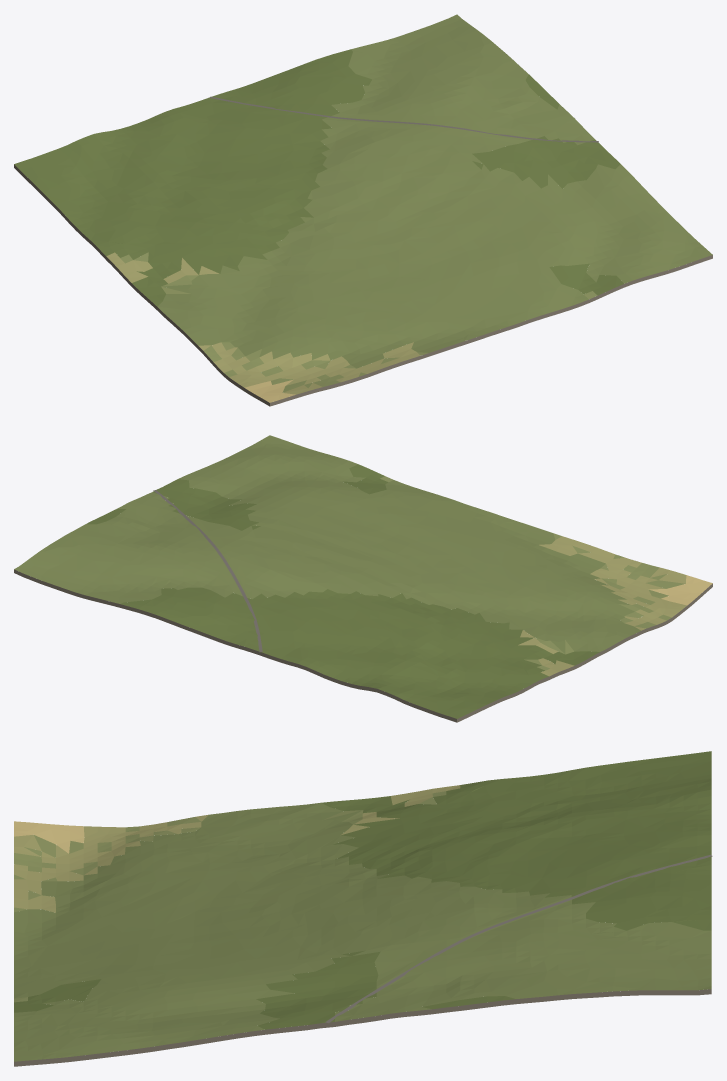
The model's file is parca_+5_-1-uzak.glb.
3 views of the same model, one above another, from view 1: azimuth 30°, elevation 25°; view 2: azimuth 150°, elevation 25°; view 3: azimuth 270°, elevation 25° (orthographic). The views are drawn at different scales.
Parts seen in each view (by area): view 1: parca_+5_-1_arazi_uzak, parca_+5_-1_yollar_uzak; view 2: parca_+5_-1_arazi_uzak, parca_+5_-1_yollar_uzak; view 3: parca_+5_-1_arazi_uzak, parca_+5_-1_yollar_uzak.
Part boxes in pixels (x1,y1,x2,y2): parca_+5_-1_arazi_uzak: (14, 14, 712, 406); parca_+5_-1_yollar_uzak: (209, 96, 598, 142); parca_+5_-1_arazi_uzak: (14, 435, 712, 722); parca_+5_-1_yollar_uzak: (153, 490, 262, 652); parca_+5_-1_arazi_uzak: (14, 751, 711, 1066); parca_+5_-1_yollar_uzak: (325, 854, 712, 1023).
Size of the model in its own units: 1003 by 218 by 1002.
